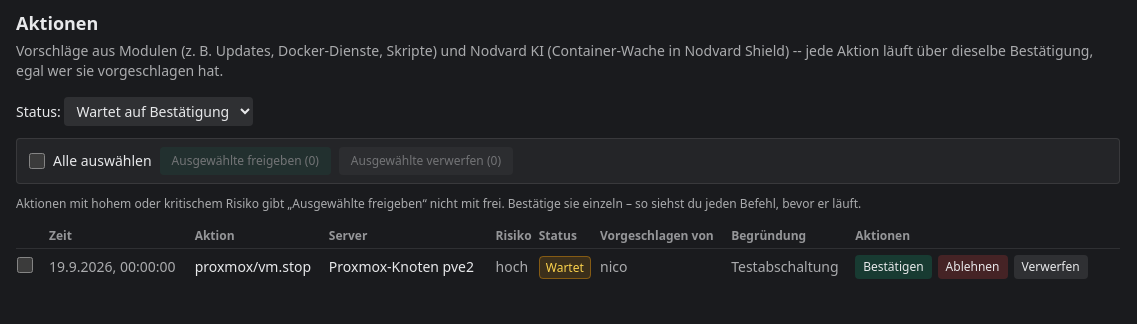
Test: ActionsPage › zeigt bei 202 „läuft im Hintergrund“ und fragt nach, bis das Ergebnis da ist
This screenshot has width=1137, height=324.
Click the button "Bestätigen".
click(893, 267)  # box [855,255,932,279]
Wait 15000 ms
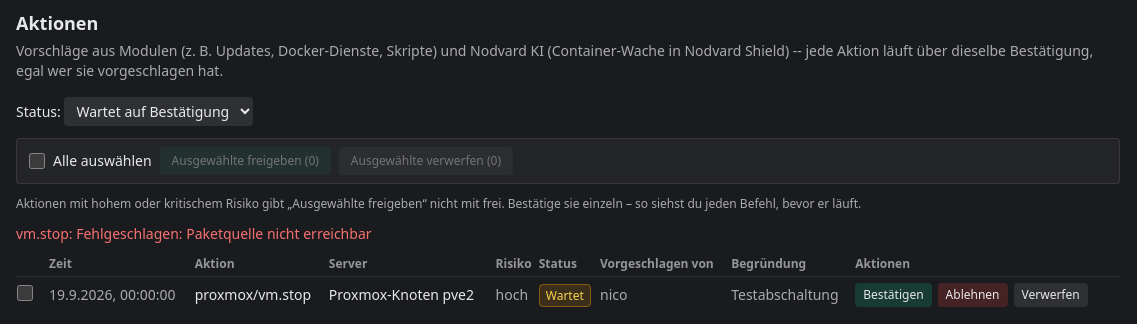
Expected: the button "Bestätigen" is enabled, [855,283,932,307]
Expected: the text "vm.stop: Fehlgeschlagen: Paketquelle nicht erreichbar" is shown, [16,224,372,243]
